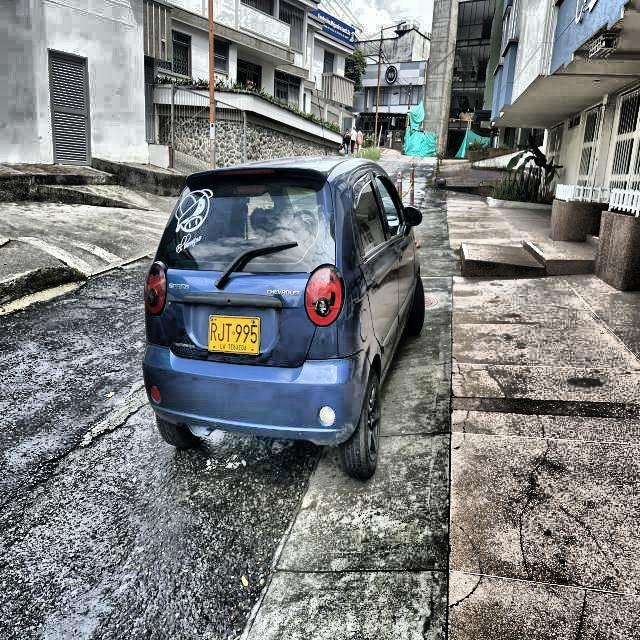plate: (209, 315, 259, 353)
